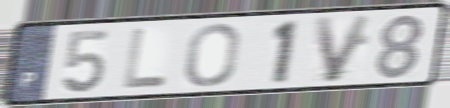1: (270, 18, 302, 86)
5: (59, 26, 112, 94)
8: (375, 12, 427, 81)
L: (120, 26, 170, 92)
O: (182, 21, 243, 89)
V: (311, 12, 376, 86)
